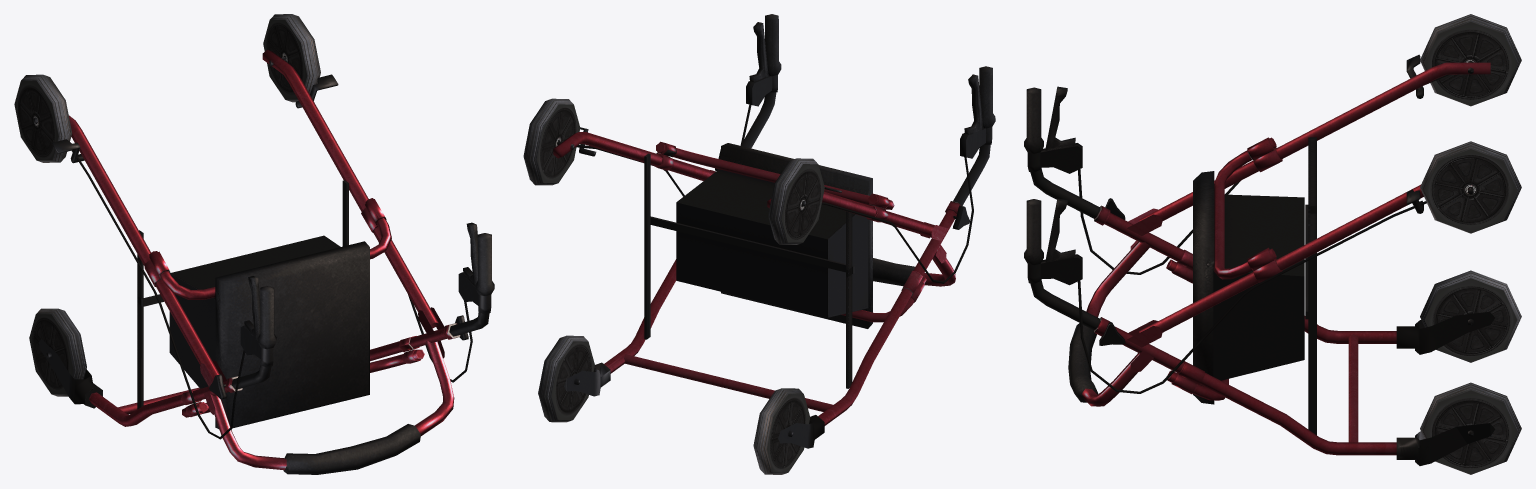
Rendered from RollingWalker.obj.
3 renders of one model, left to right at view 1: azimuth 30°, elevation 25°; view 2: azimuth 150°, elevation 25°; view 3: azimuth 270°, elevation 25°, orthographic. The views are drawn at different scales.
Parts seen in each view (by area): view 1: RollingWalker; view 2: RollingWalker; view 3: RollingWalker.
Boxes of the visible parts, x1,y1,x2,y2 form: RollingWalker: (14, 14, 494, 474); RollingWalker: (523, 14, 995, 474); RollingWalker: (1024, 14, 1521, 474).
Bounding box in the file's own units: 0.6204 × 0.6887 × 0.9104.
1 material, 1 textured.
